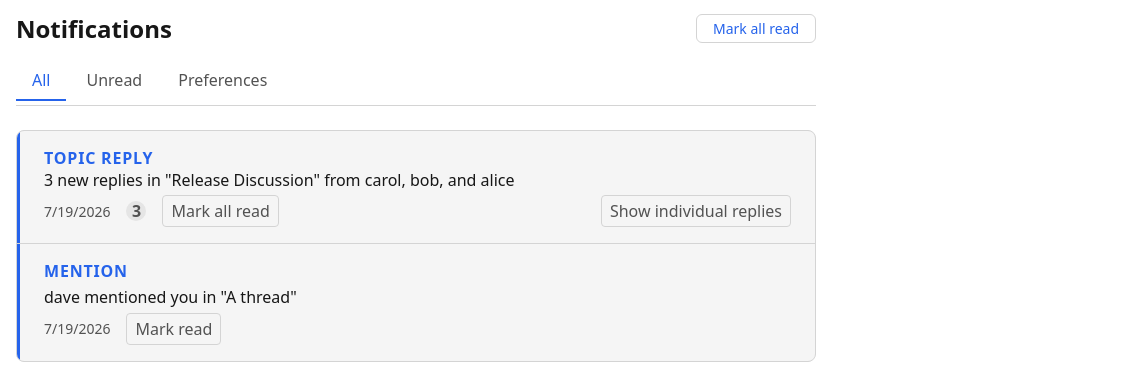
Test case: NotificationsPage grouping (BE-9.14) › shows an error toast and does not refetch the unread count when the batch request fails
Check: the text "3 new replies in \"Release Discussion\" from carol, bob, and alice" is shown, box top-left (44, 169), bottom-right (514, 191)
Click the button "Mark all read" below "Topic Reply" at point(221, 211), box top-left (162, 195), bottom-right (279, 227)
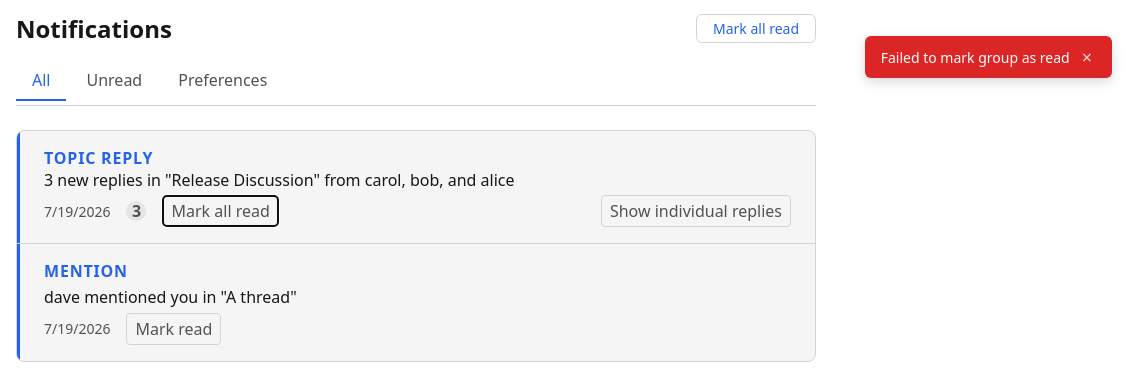
Check: the text "Failed to mark group as read" is shown, box top-left (881, 48), bottom-right (1070, 66)
